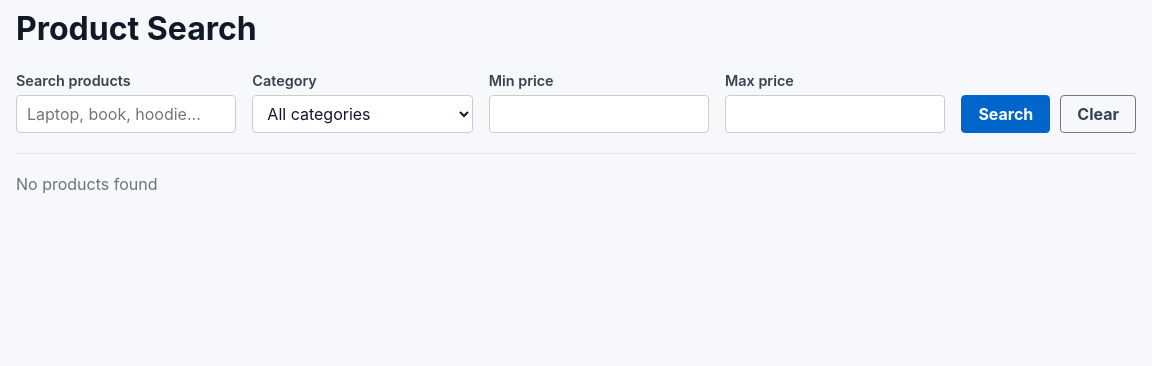
ProductSearch › shows result count after successful search
What coordinates should you click on to do the following:
click the button with test id "search-button"
I would click on:
 (1006, 114)
Its box is [961,95,1050,133].
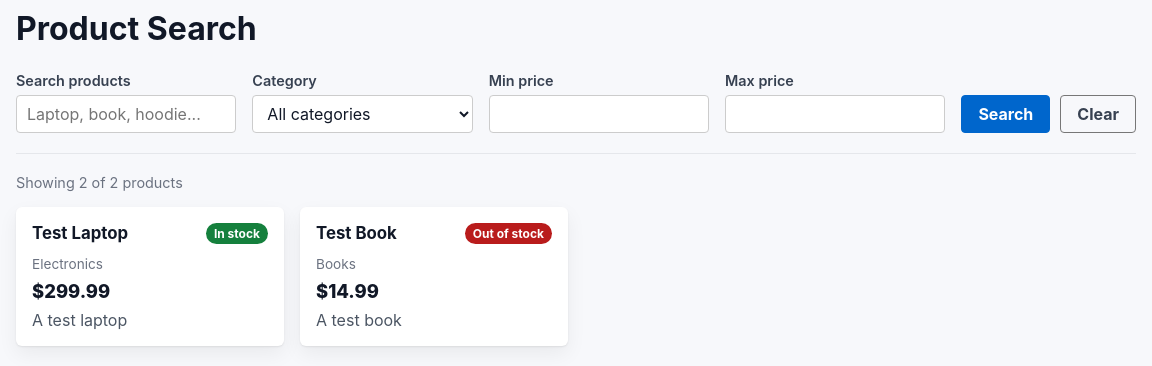
Expected: the text "Showing 2 of 2 products" is shown, [16,174,183,191]
